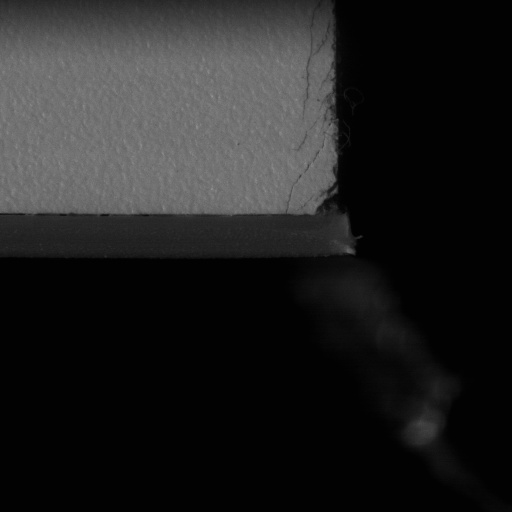bengque: (310, 190, 347, 219)
